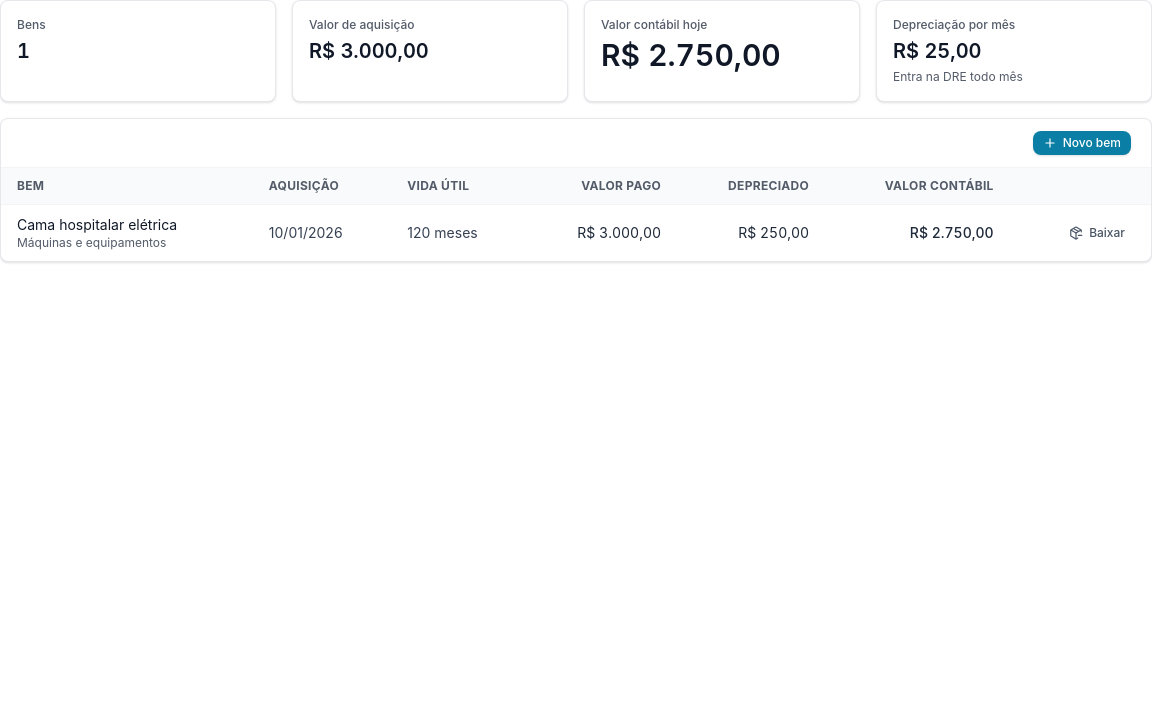
Test case: Capital › Patrimônio › cadastrar um bem: manda os dados, avisa e a lista passa a mostrá-lo
expect the text "Cama hospitalar elétrica" is shown: met, box x1=17 y1=216 x2=177 y2=233
Click the button "Novo bem" at (1082, 143), box x1=1033 y1=131 x2=1131 y2=155
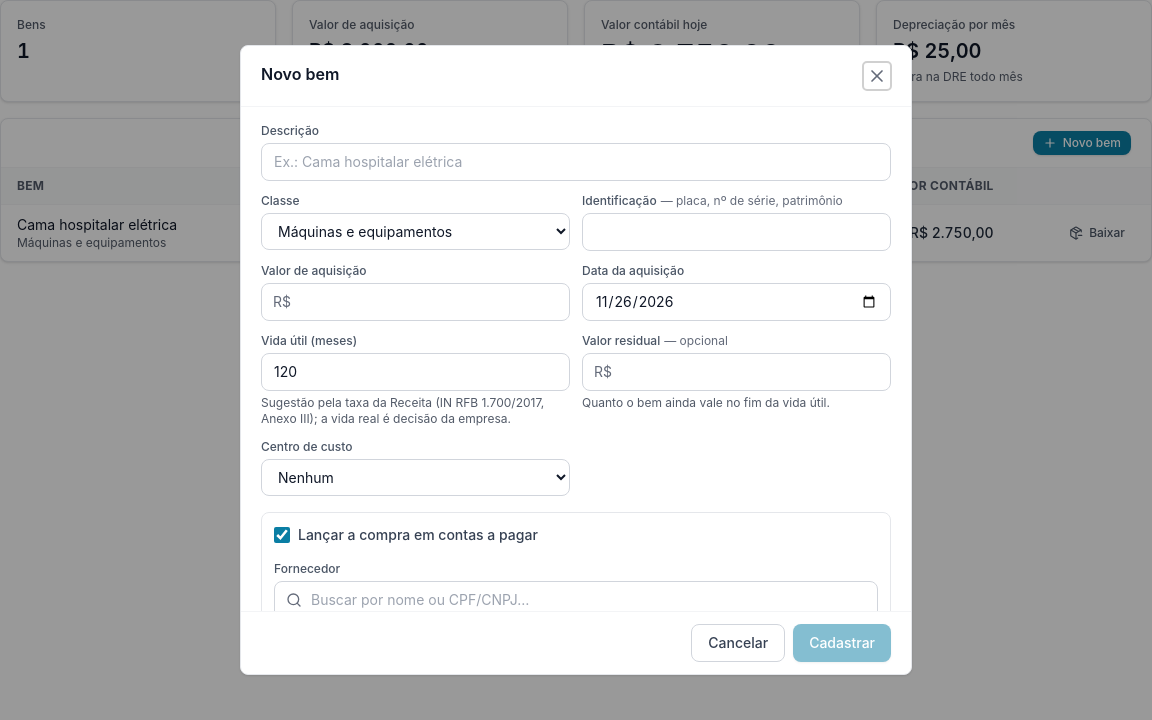
expect the button "Cadastrar" is disabled: met, box x1=793 y1=624 x2=891 y2=662
Type "Desfibrilador" into the field labelled "Descrição" at (576, 162), box x1=261 y1=143 x2=891 y2=181
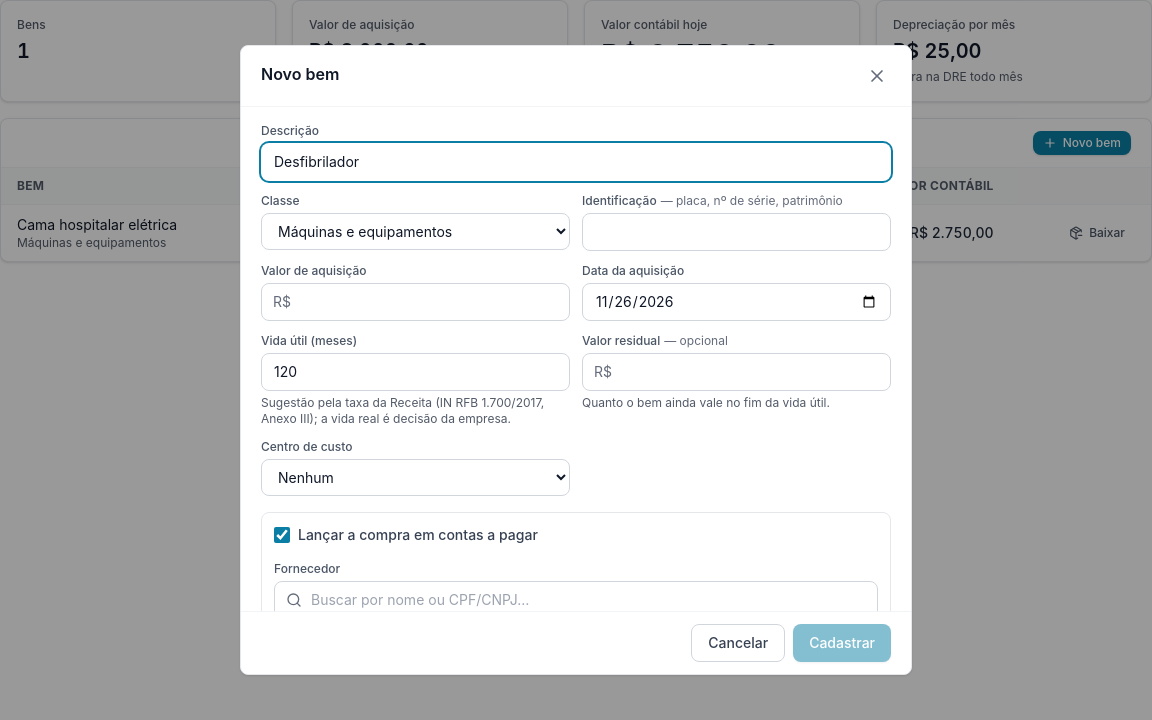
Type "4500" into the field labelled "Valor de aquisição" at (416, 302), box x1=261 y1=283 x2=570 y2=321
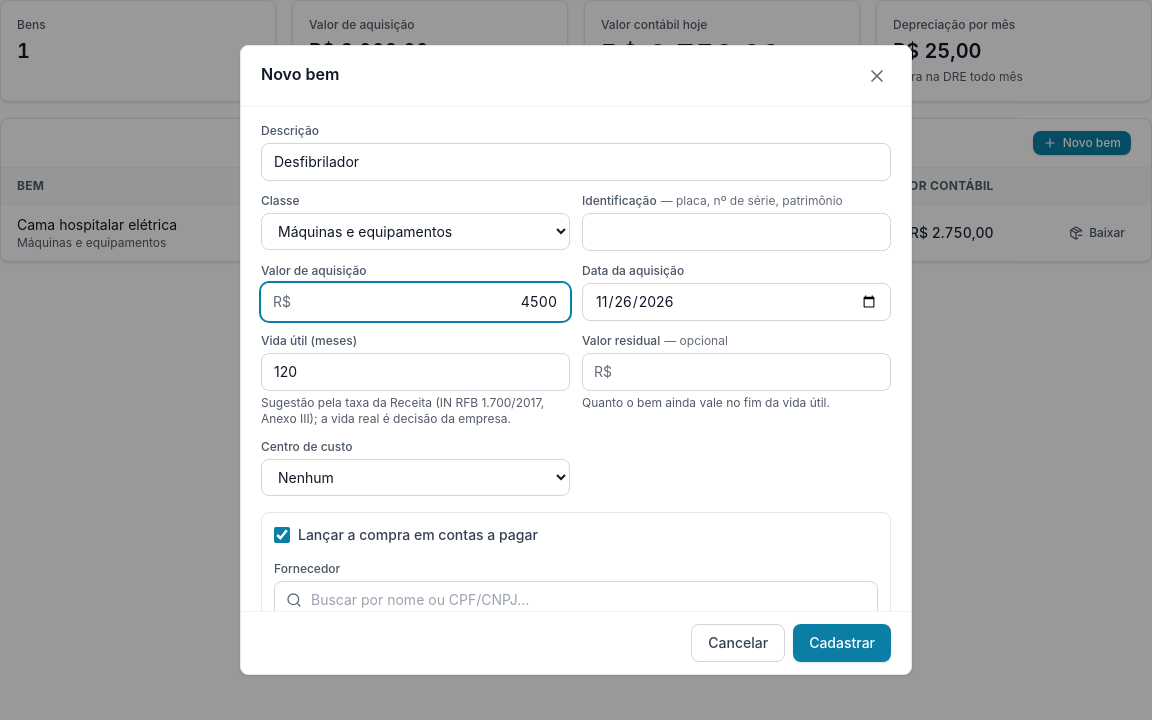
Click the button "Cadastrar" at (842, 643), box x1=793 y1=624 x2=891 y2=662
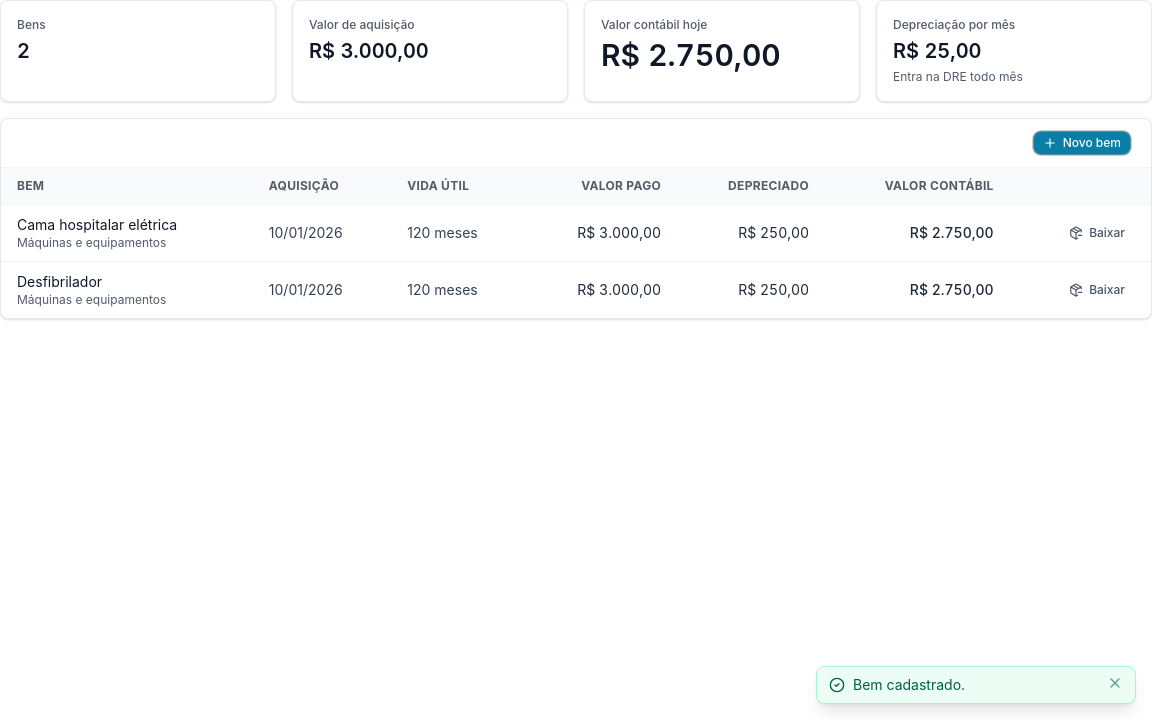
expect the text "Bem cadastrado." is shown: met, box x1=853 y1=676 x2=965 y2=693
expect the text "Desfibrilador" is shown: met, box x1=17 y1=273 x2=102 y2=290
